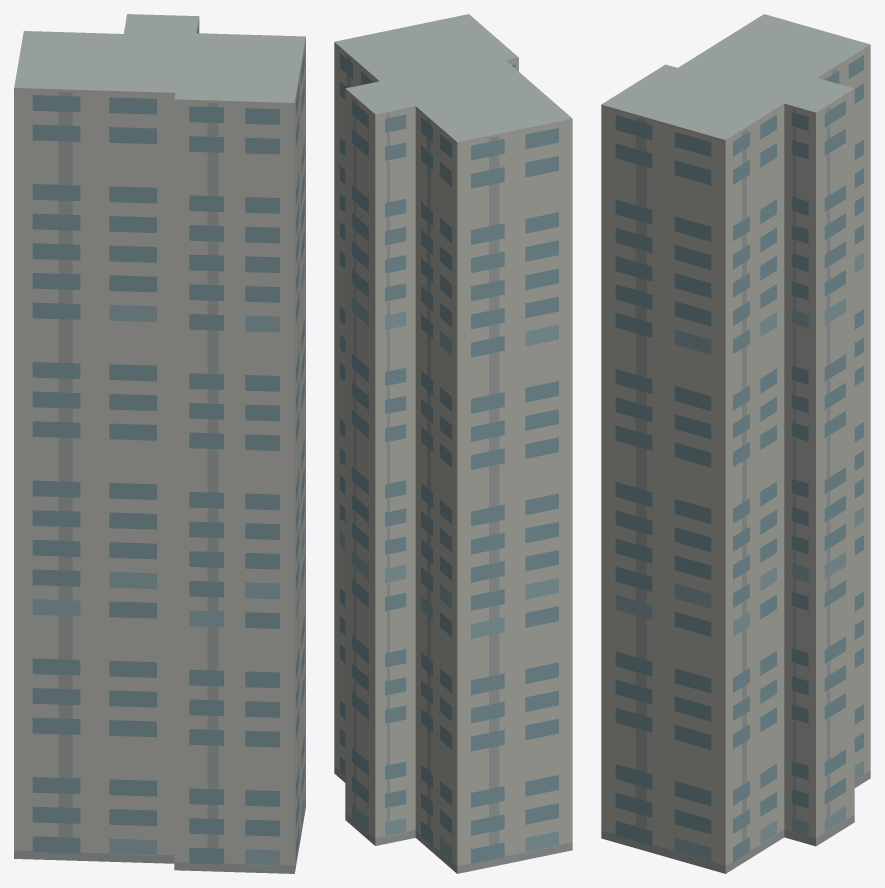
Rendered from residential-0165be0a-948e-4f03-9cd4-28ed67ae55da.glb.
3 views of the same model, side by side, from view 1: azimuth 30°, elevation 25°; view 2: azimuth 150°, elevation 25°; view 3: azimuth 270°, elevation 25° (orthographic). The views are drawn at different scales.
Visible parts, largest first — view 1: residential-0165be0a-948e-4f03-9cd4-28ed67ae55da.tmp; view 2: residential-0165be0a-948e-4f03-9cd4-28ed67ae55da.tmp; view 3: residential-0165be0a-948e-4f03-9cd4-28ed67ae55da.tmp.
Boxes of the visible parts, x1,y1,x2,y2 form: residential-0165be0a-948e-4f03-9cd4-28ed67ae55da.tmp: (14,14,305,873); residential-0165be0a-948e-4f03-9cd4-28ed67ae55da.tmp: (334,14,572,873); residential-0165be0a-948e-4f03-9cd4-28ed67ae55da.tmp: (601,14,870,873).
Bounding box in the file's own units: 26.92 × 73 × 24.31.
